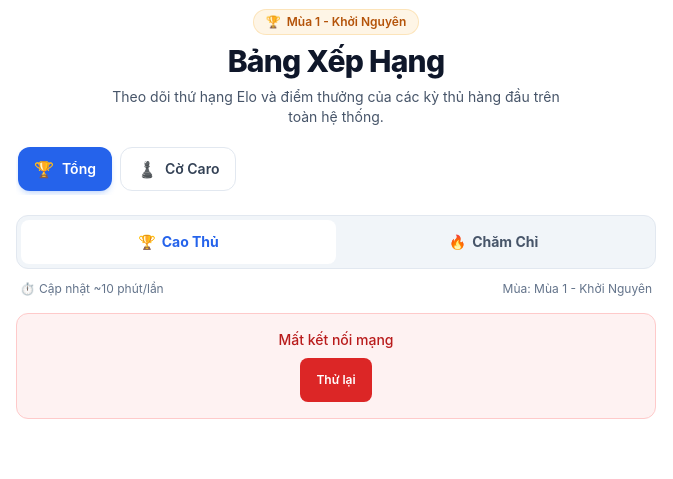
Scenario: LeaderboardPage Component Tests (LeaderboardPage.tsx - P4.4c & P4.7c) › 7. [Offline-First] Khi lỗi mạng -> Hiển thị khối lỗi và nút Thử lại
The image size is (673, 479).
Expected: the element with test id "leaderboard-error-banner" is shown, [16, 313, 656, 419]
Expected: the text "Mất kết nối mạng" is shown, [278, 330, 394, 350]
Click the button "Thử lại" at (336, 380), box [300, 358, 372, 402]
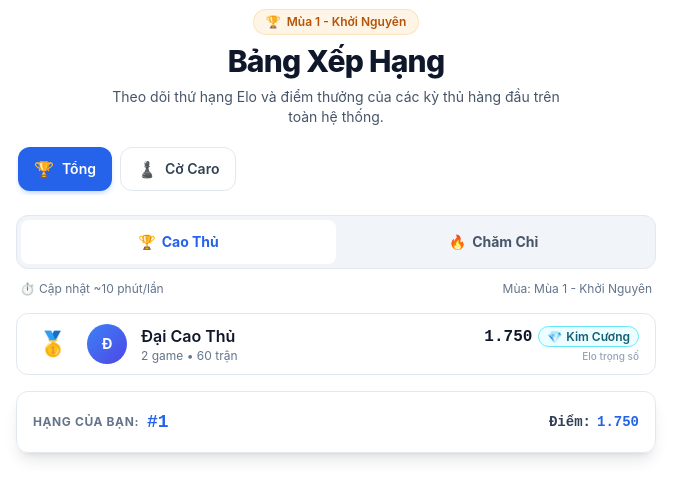
Expected: the text "Đại Cao Thủ" is shown, [141, 324, 235, 348]
Expected: the element with test id "leaderboard-error-banner" is gone
